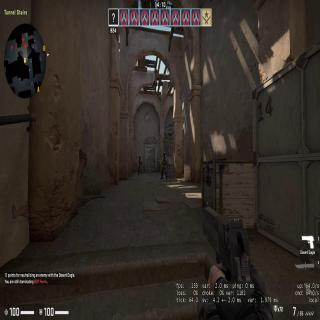CT-Body: (160, 150, 168, 177), (136, 154, 143, 174)
CT-Head: (163, 151, 165, 157), (138, 155, 141, 159)
